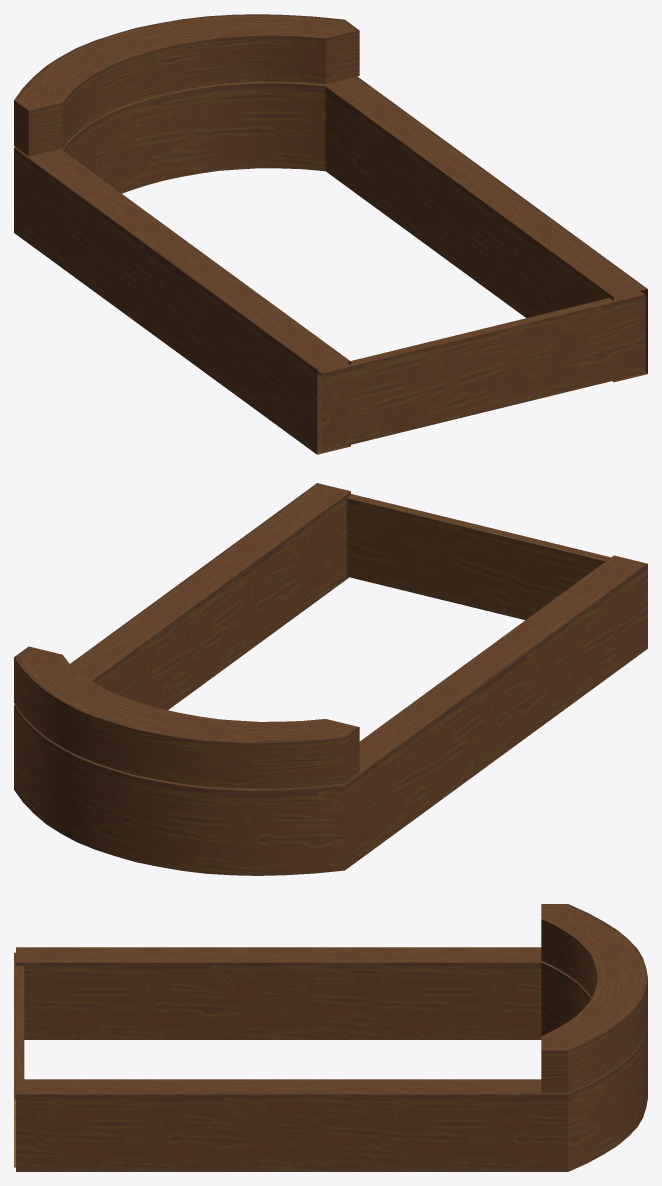
File: DoorFrame_Round_WoodDark.fbx
3 views of the same model, one above another, from view 1: azimuth 30°, elevation 25°; view 2: azimuth 150°, elevation 25°; view 3: azimuth 270°, elevation 25° (orthographic). The views are drawn at different scales.
Parts seen in each view (by area): view 1: DoorFrame_Round_WoodDark; view 2: DoorFrame_Round_WoodDark; view 3: DoorFrame_Round_WoodDark.
Boxes of the visible parts, <box> form: DoorFrame_Round_WoodDark: <box>14,14,647,454</box>; DoorFrame_Round_WoodDark: <box>14,483,647,875</box>; DoorFrame_Round_WoodDark: <box>14,904,647,1171</box>.
Size of the model in its own units: 1.41 by 0.539 by 2.56.
